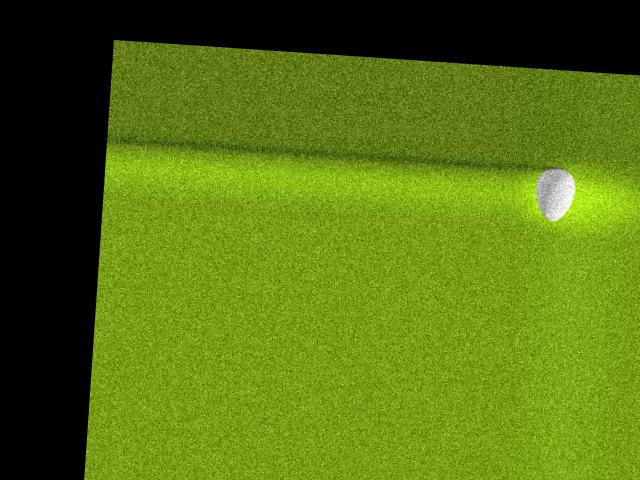egg: (533, 166, 576, 223)
